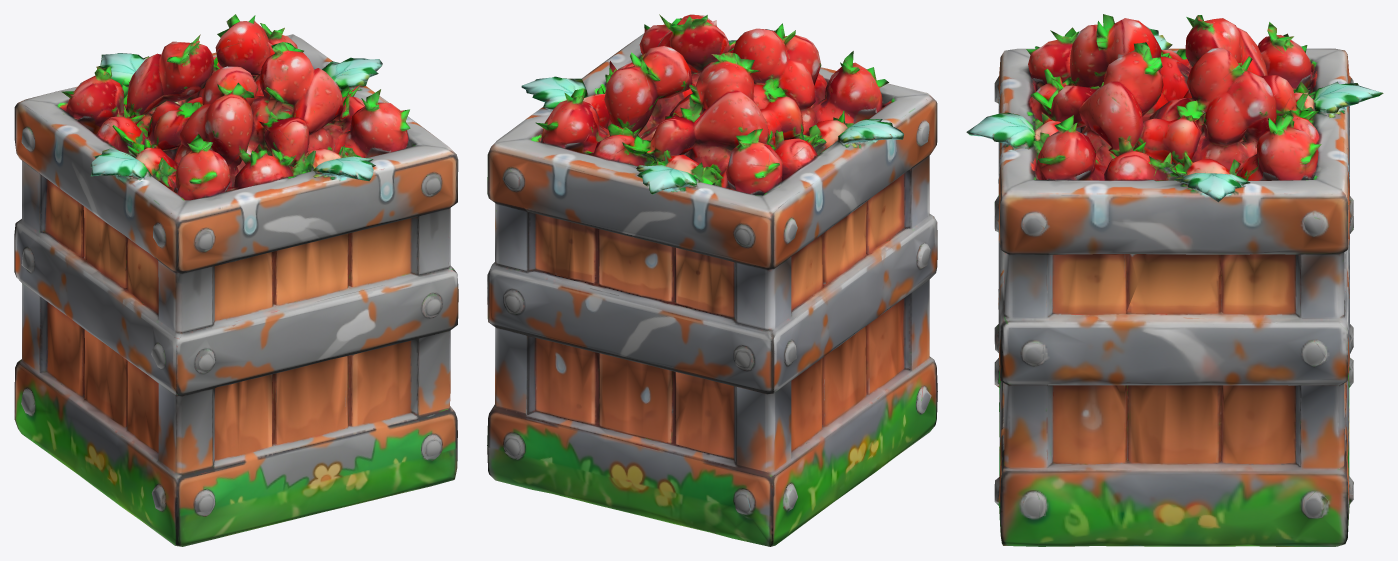
Rendered from Meshy_AI_Strawberry_Harvest_Bo_0203084829_texture.fbx.
The picture shows the model from 3 angles, left to right: view 1: azimuth 30°, elevation 25°; view 2: azimuth 150°, elevation 25°; view 3: azimuth 270°, elevation 25°; orthographic projection. The views are drawn at different scales.
Parts seen in each view (by area): view 1: Mesh1.0; view 2: Mesh1.0; view 3: Mesh1.0.
Part boxes in pixels (box(x1,y1,x2,y2)): Mesh1.0: box(14, 14, 458, 546); Mesh1.0: box(487, 14, 937, 546); Mesh1.0: box(966, 14, 1383, 546).
Bounding box in the file's own units: 168 × 200 × 170.
Materials: 1 (1 with a texture image).
